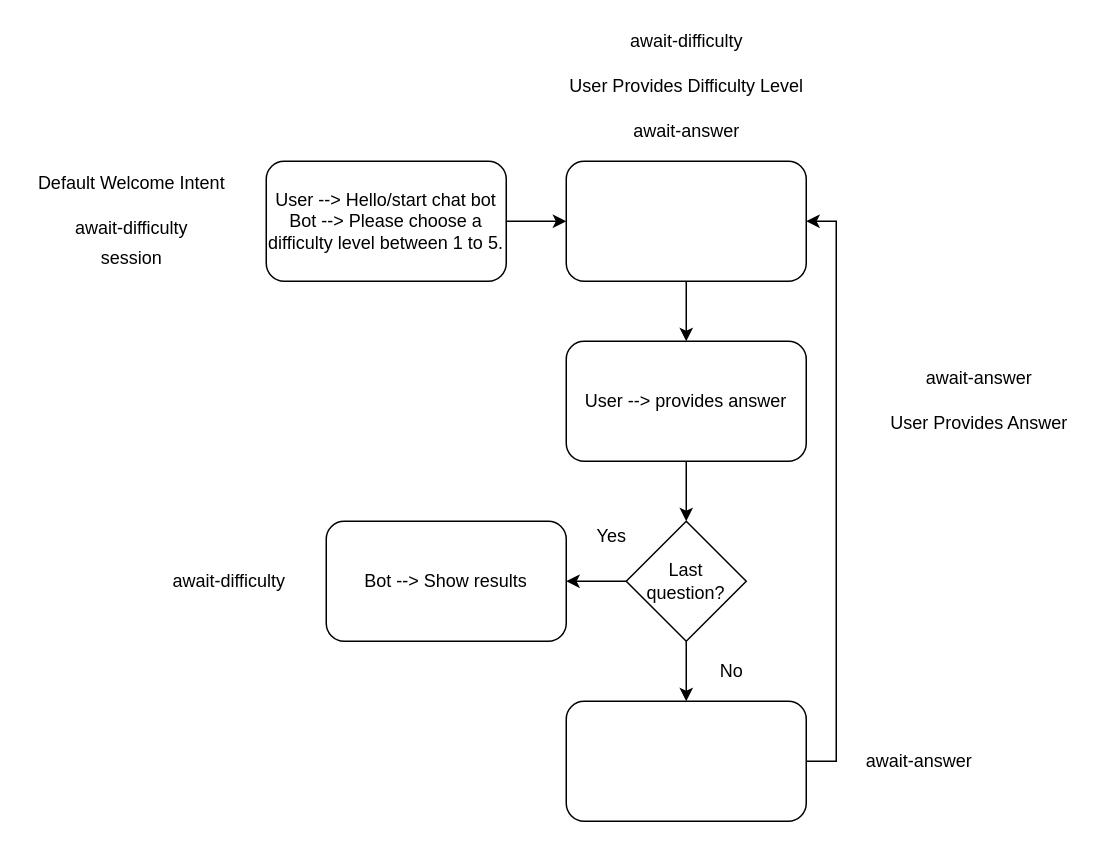
The diagram is 1101 pixels wide and 848 high, and some of its shapes have lost their labels. The centre of each missing label's shape, as x and y in pixels:
"Bot --> Ask next question" belongs at point 685,760.
"User --> 5 Bot --> Asks first question" belongs at point 685,220.
